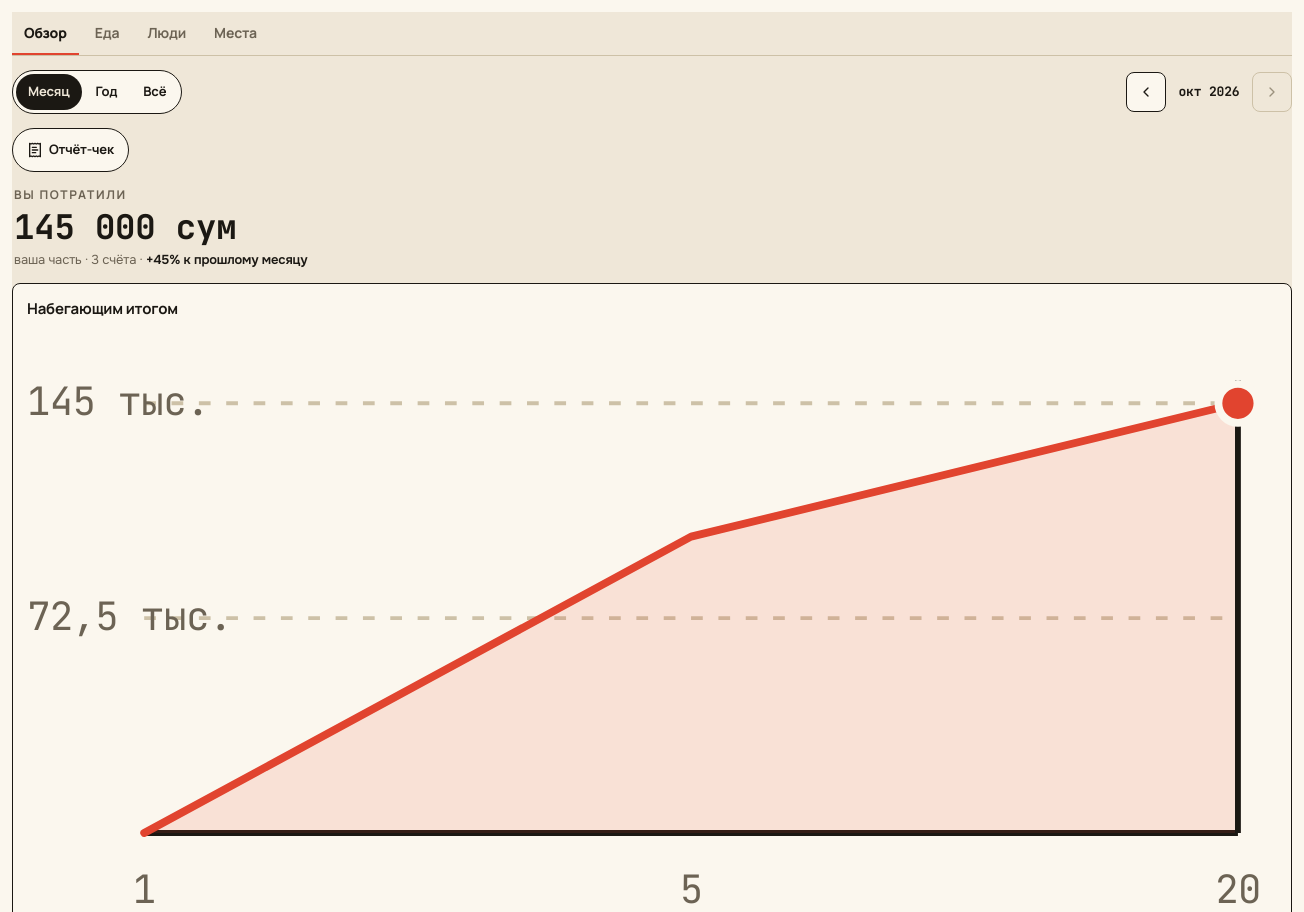
it: AnalyticsPanel › offers the report for any period and the stories for a year
This screenshot has width=1304, height=912.
expect the text "Вы потратили" is shown: met, box [14, 186, 127, 202]
expect the button "Отчёт-чек" is shown: met, box [12, 128, 129, 172]
Click the button "Год" at (106, 92), box [84, 74, 129, 110]
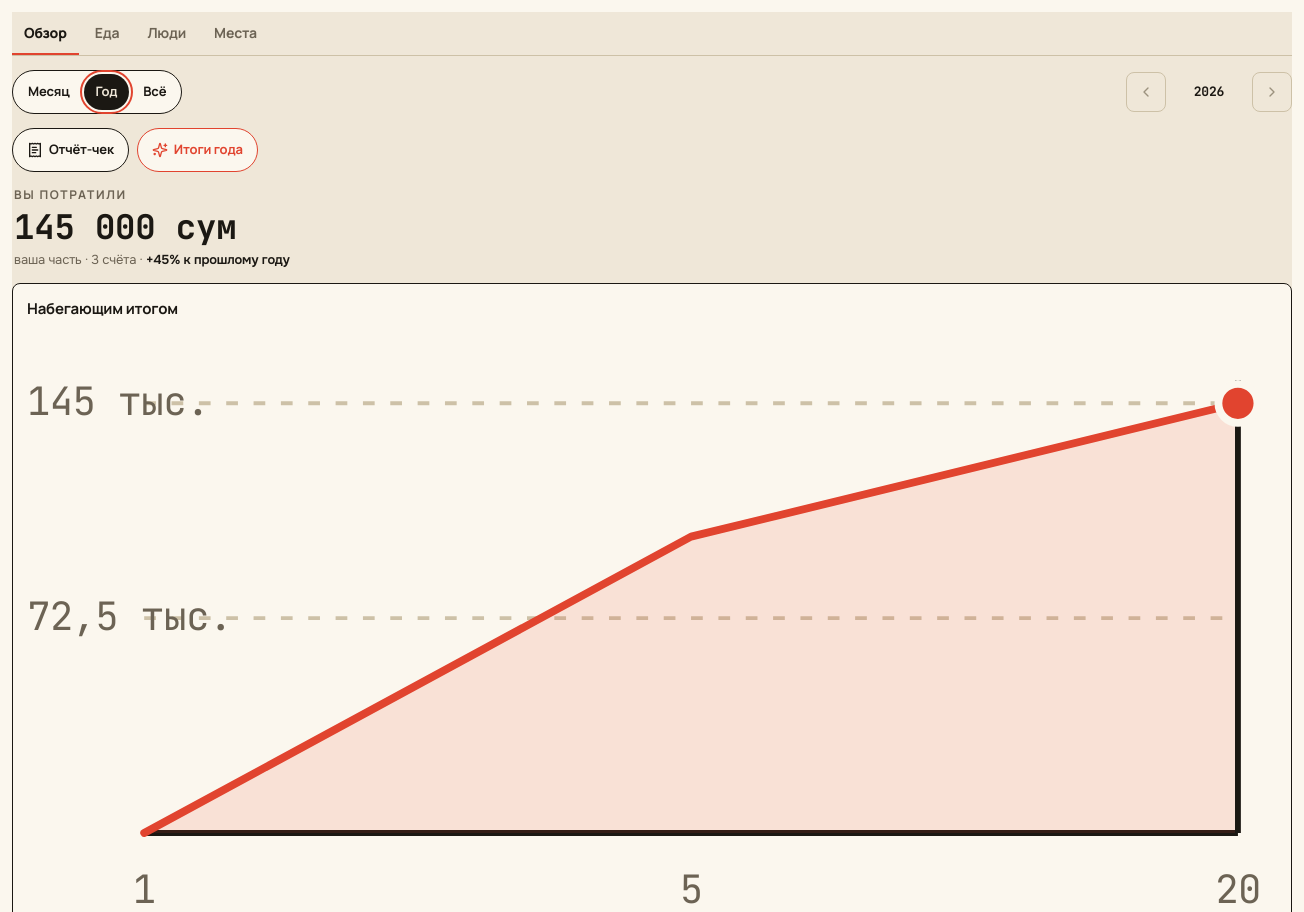
expect the button "Итоги года" is shown: met, box [137, 128, 258, 172]
